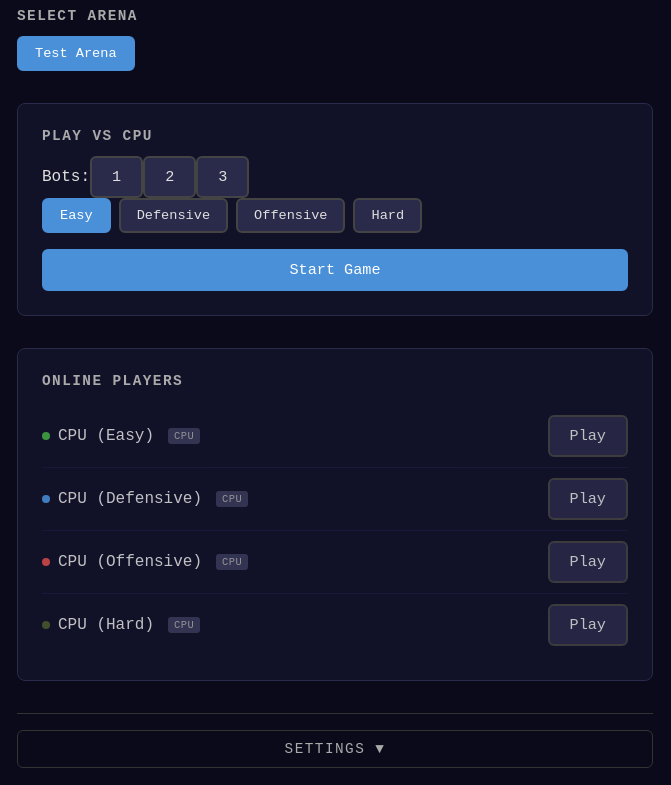
Test: LobbyPage › renders Rounds to Win selector when settings is open
The width and height of the screenshot is (671, 785).
(page scrolled)
What coordinates should you click on to do the following:
click the button "Settings ▼"
I would click on:
 (335, 749)
Its box is [17, 730, 653, 768].
(page scrolled)
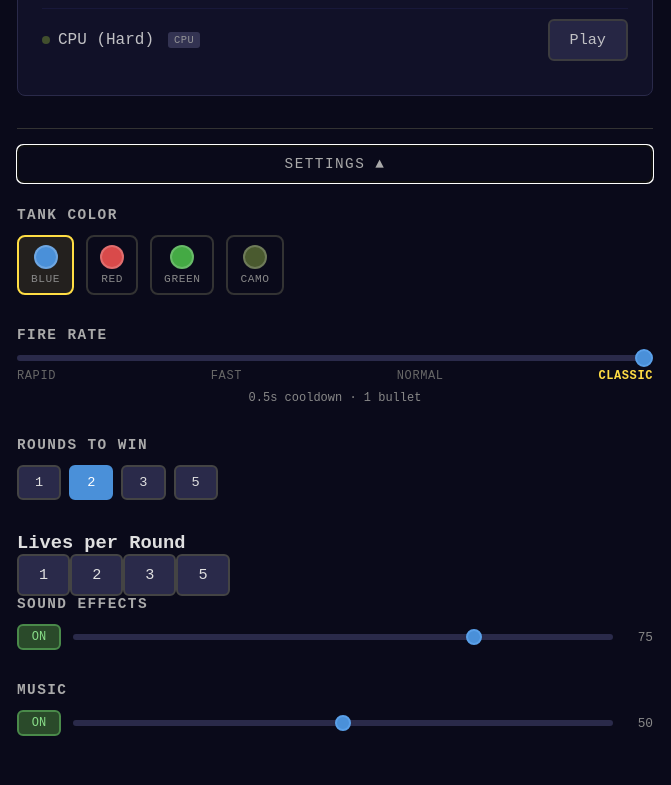
Expected: the heading "Rounds to Win" is shown, [17, 437, 148, 453]
